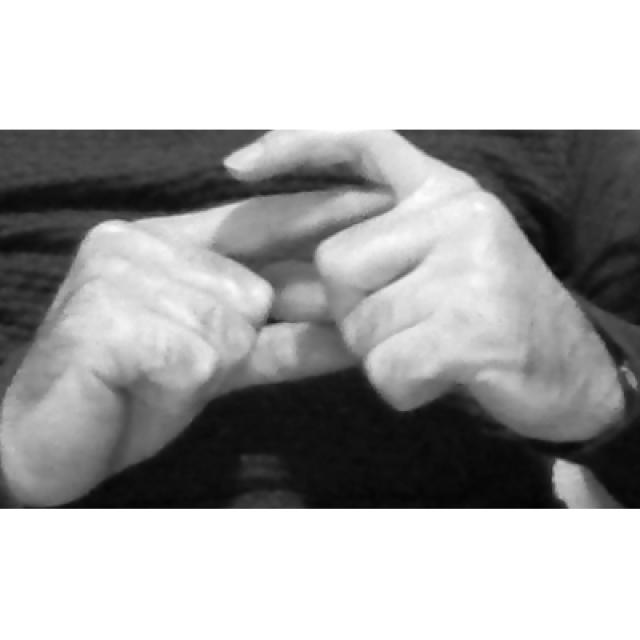G-: (1, 127, 622, 510)
